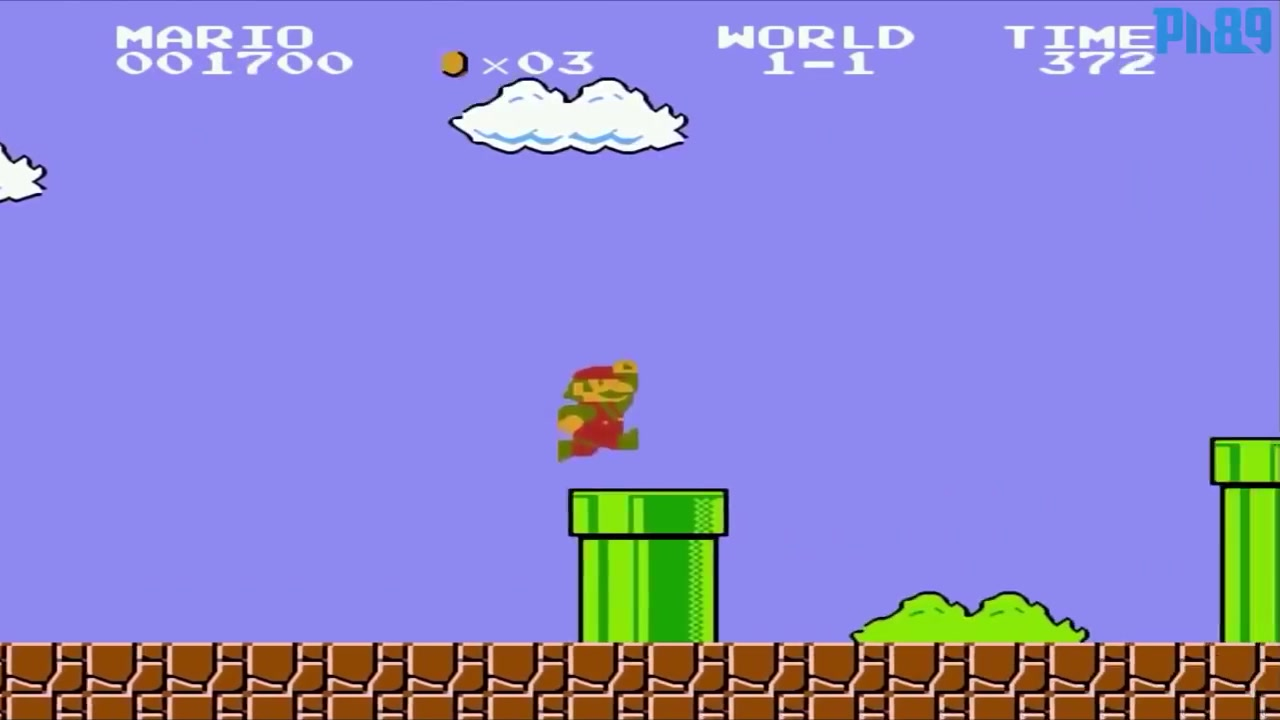mario: (542, 355, 653, 462)
